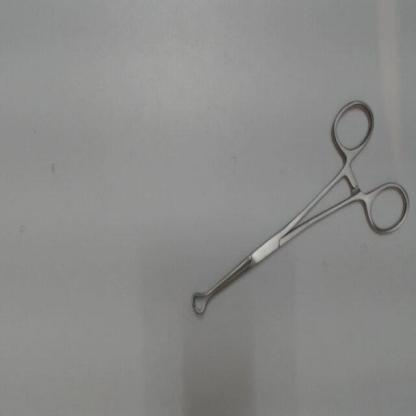Babcock Tissue Forceps: (188, 97, 414, 319)
